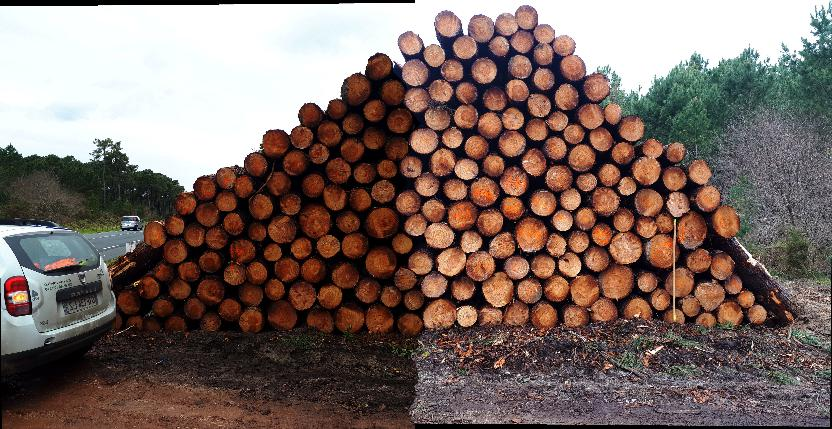object: (482, 268, 516, 310), (419, 299, 461, 331), (644, 234, 682, 267), (362, 208, 402, 239), (601, 264, 635, 300), (300, 204, 334, 238), (516, 218, 548, 254), (678, 210, 708, 246), (268, 214, 298, 250), (608, 233, 644, 263), (362, 246, 398, 276), (501, 164, 533, 196), (422, 220, 454, 252), (692, 280, 726, 310), (471, 174, 501, 206), (466, 250, 496, 282), (341, 73, 371, 105), (416, 273, 454, 298), (448, 202, 480, 231), (567, 142, 597, 172), (428, 148, 458, 178), (540, 274, 570, 304), (336, 301, 366, 331), (497, 130, 529, 158), (714, 207, 742, 239), (571, 275, 599, 307), (686, 245, 715, 275), (532, 301, 560, 332), (628, 158, 661, 184), (634, 187, 663, 216), (260, 128, 290, 156), (694, 185, 724, 213), (708, 252, 738, 280), (287, 280, 317, 308), (584, 71, 612, 101), (436, 248, 468, 274), (588, 297, 620, 323), (592, 185, 620, 214), (545, 164, 573, 192), (342, 230, 370, 258), (332, 262, 360, 290), (356, 276, 384, 304), (454, 102, 482, 130), (616, 115, 646, 141), (408, 128, 438, 154), (477, 210, 507, 236), (666, 268, 692, 298), (268, 300, 298, 326), (364, 305, 394, 331), (623, 297, 655, 321), (365, 52, 393, 79), (406, 87, 433, 115), (587, 125, 615, 151), (462, 134, 490, 160), (522, 148, 548, 176), (435, 11, 463, 37), (583, 245, 611, 271), (420, 43, 448, 69), (577, 103, 605, 129), (387, 105, 413, 133), (689, 156, 713, 186), (528, 191, 558, 215), (470, 13, 494, 43), (198, 277, 228, 301), (714, 304, 744, 328), (369, 179, 396, 205), (560, 56, 587, 82), (323, 182, 347, 211), (324, 156, 350, 182), (192, 177, 218, 203), (195, 200, 221, 226), (489, 231, 515, 257), (453, 33, 479, 59), (471, 58, 497, 84), (554, 84, 580, 110), (243, 154, 271, 178), (418, 170, 442, 198), (397, 186, 421, 214), (666, 190, 690, 218), (402, 211, 426, 239), (144, 220, 168, 248), (427, 104, 451, 132), (450, 276, 475, 302), (533, 252, 556, 280), (320, 121, 344, 147), (310, 141, 334, 167), (284, 150, 308, 176), (278, 192, 304, 216), (557, 253, 583, 277), (178, 261, 204, 285), (516, 280, 542, 304), (478, 303, 504, 327), (455, 305, 481, 329), (310, 306, 336, 330), (398, 31, 424, 55), (440, 58, 466, 82), (405, 60, 429, 86), (526, 90, 550, 116), (298, 102, 322, 128), (541, 137, 569, 159), (452, 158, 480, 180), (238, 283, 266, 305), (499, 107, 527, 129), (552, 207, 576, 232), (231, 238, 255, 263), (396, 314, 426, 334), (511, 28, 536, 52), (382, 80, 407, 104), (479, 112, 502, 138), (609, 208, 635, 231), (526, 118, 550, 142), (386, 137, 410, 161), (610, 140, 634, 164), (516, 5, 540, 29), (576, 170, 600, 194), (558, 187, 582, 211), (500, 196, 524, 220), (222, 213, 246, 237), (317, 236, 341, 260), (409, 252, 433, 276), (506, 258, 530, 282), (636, 269, 660, 293), (648, 287, 672, 311), (505, 78, 529, 102), (457, 231, 483, 253), (274, 258, 300, 280), (300, 259, 326, 281), (219, 299, 245, 321), (181, 299, 209, 319), (361, 124, 385, 147), (506, 301, 528, 326), (507, 57, 533, 78), (290, 126, 314, 148), (339, 137, 363, 159), (664, 167, 688, 189), (218, 168, 240, 192), (268, 171, 290, 195), (251, 192, 273, 216), (496, 12, 518, 36), (320, 283, 342, 307), (382, 284, 404, 308), (664, 305, 688, 327), (239, 310, 263, 332), (217, 188, 237, 214), (391, 232, 417, 252), (484, 85, 504, 111), (533, 68, 555, 91), (431, 76, 451, 101), (401, 155, 423, 177), (356, 162, 378, 184), (422, 197, 444, 219), (338, 210, 360, 232), (248, 220, 270, 242), (566, 230, 588, 252), (164, 237, 186, 259), (723, 273, 745, 295), (680, 296, 702, 318), (565, 305, 587, 327), (456, 82, 478, 104), (342, 112, 364, 134), (444, 178, 468, 198), (546, 234, 566, 258), (405, 286, 425, 310), (200, 311, 224, 331), (236, 173, 254, 199), (556, 36, 578, 57), (484, 156, 507, 176), (668, 142, 687, 166), (127, 316, 159, 330), (566, 121, 586, 143), (378, 156, 398, 178), (616, 174, 636, 196), (175, 194, 195, 216), (654, 212, 676, 232), (593, 222, 613, 244), (262, 240, 282, 262), (264, 277, 284, 299), (748, 304, 768, 326), (534, 41, 554, 63), (546, 109, 566, 131), (164, 216, 188, 234), (120, 288, 138, 312), (364, 100, 386, 119), (304, 173, 322, 196), (200, 254, 223, 272), (224, 264, 244, 284), (641, 140, 663, 158), (598, 164, 620, 182), (575, 208, 597, 226), (639, 217, 657, 239), (186, 224, 204, 246), (246, 264, 268, 282), (396, 267, 414, 289), (604, 102, 622, 124), (172, 277, 188, 301), (442, 128, 462, 147), (351, 190, 371, 209), (292, 241, 312, 260), (152, 297, 172, 316), (142, 278, 160, 298), (327, 101, 347, 118), (157, 263, 176, 280), (168, 316, 191, 330), (736, 291, 756, 307), (535, 24, 555, 40), (695, 312, 717, 326), (209, 228, 228, 244), (493, 38, 509, 56)
pile: (116, 11, 770, 336)
